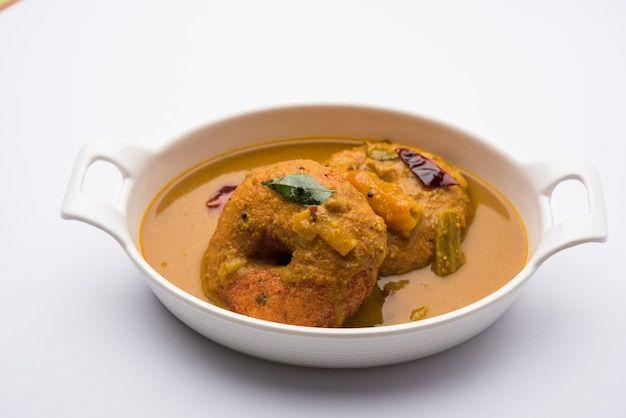medu vada: (217, 160, 376, 327), (336, 137, 459, 260)
sambhar: (151, 188, 205, 269)
